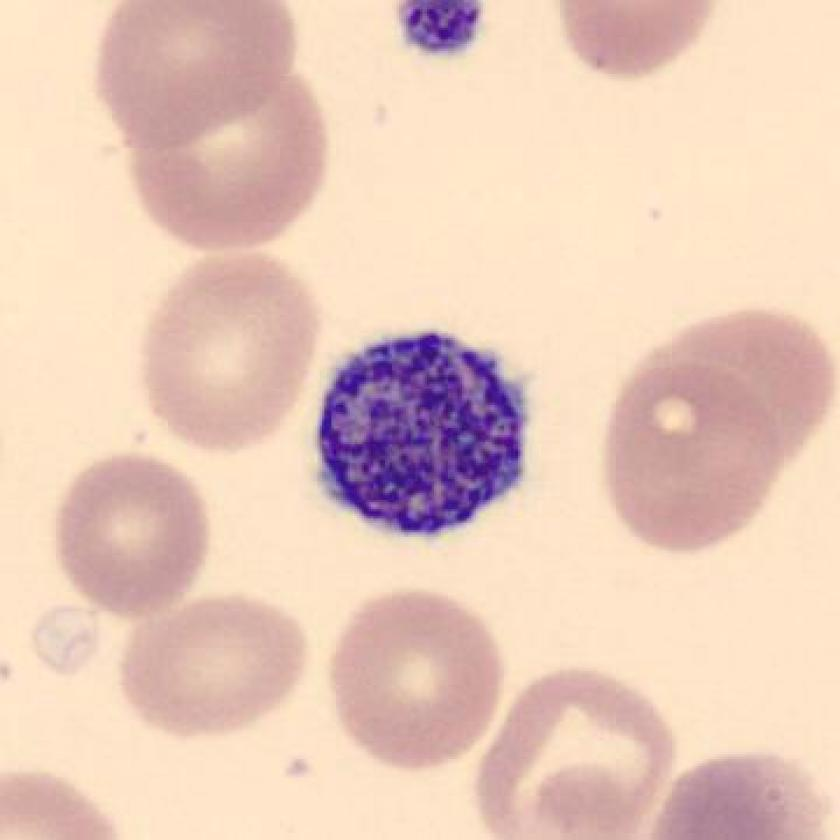platelets: (309, 325, 545, 552), (386, 1, 493, 68)
